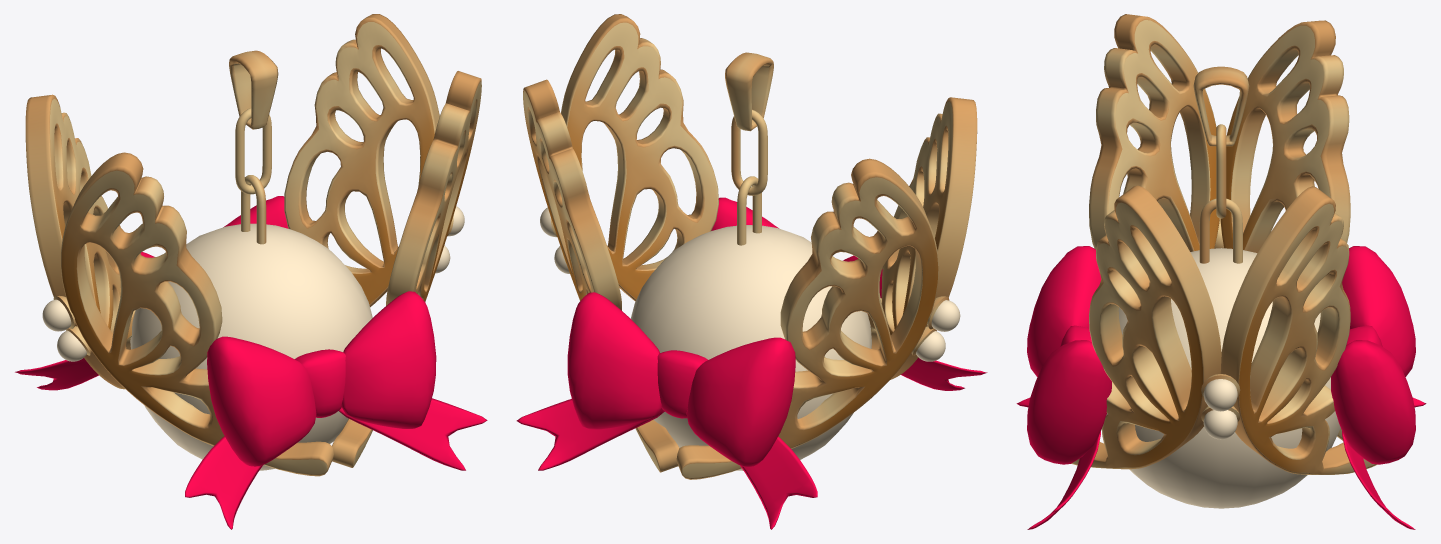
The model's file is necklace2.fbx.
3 views of the same model, side by side, from view 1: azimuth 30°, elevation 25°; view 2: azimuth 150°, elevation 25°; view 3: azimuth 270°, elevation 25° (orthographic). The views are drawn at different scales.
Parts seen in each view (by area): view 1: group15_pSphere1; view 2: group15_pSphere1; view 3: group15_pSphere1.
Part boxes in pixels (x1,y1,x2,y2): group15_pSphere1: [15, 14, 487, 529]; group15_pSphere1: [516, 14, 987, 529]; group15_pSphere1: [1016, 14, 1426, 529].
Bounding box in the file's own units: 69.85 × 64.61 × 56.38.
3 materials, 1 textured.
